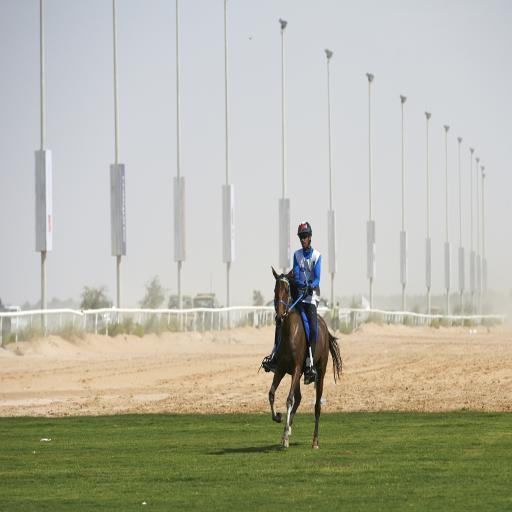horse: (268, 264, 342, 452)
